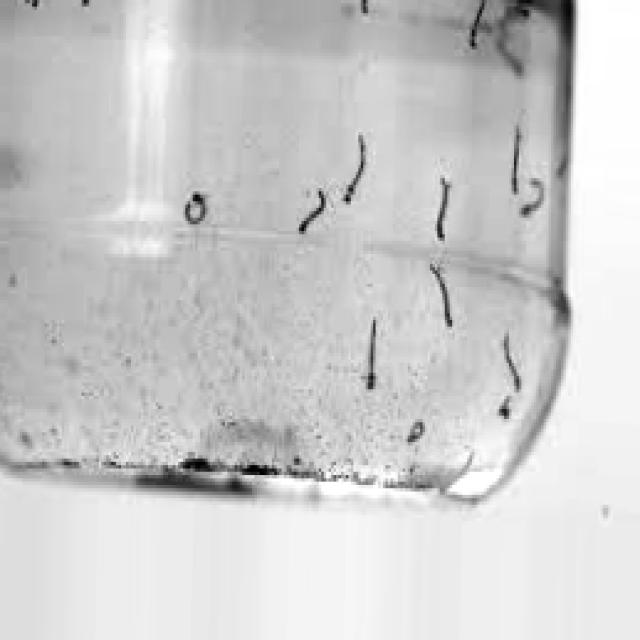larvas: (340, 133, 374, 210), (295, 184, 333, 241), (431, 264, 452, 327), (503, 338, 522, 390), (520, 179, 546, 216), (184, 188, 208, 226), (510, 126, 523, 192), (468, 0, 485, 50), (365, 321, 377, 390), (498, 43, 523, 76), (502, 8, 533, 34), (437, 179, 450, 239), (408, 422, 424, 444), (499, 398, 511, 419), (357, 0, 370, 17)
